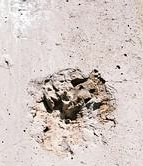Spalling: (24, 66, 117, 157)
